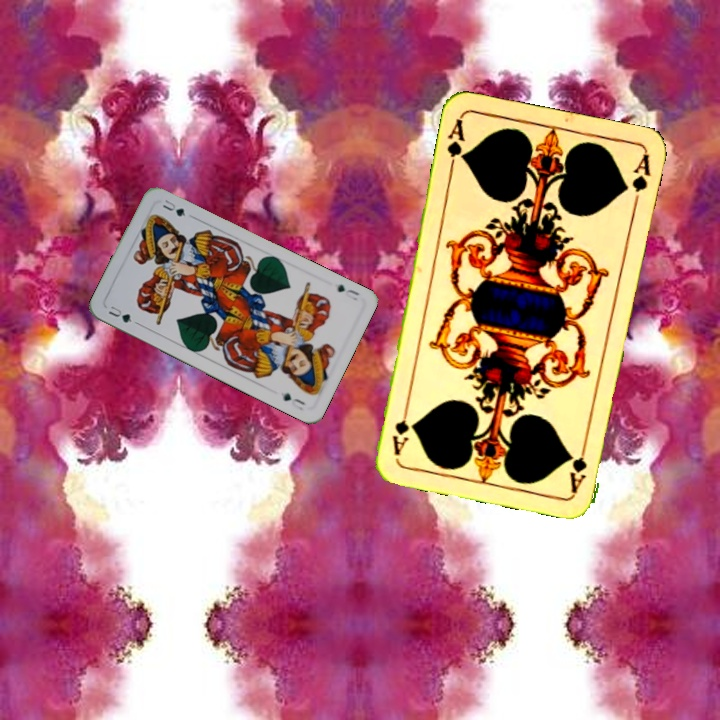GA: (442, 114, 469, 174), (566, 435, 591, 494)
GU: (104, 302, 134, 325), (333, 280, 362, 303)
